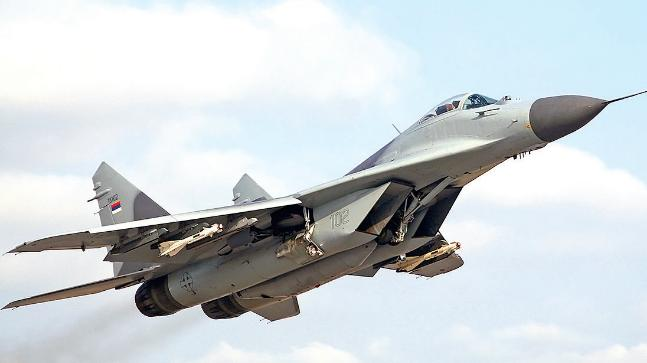Mig-29: (34, 35, 626, 330)
